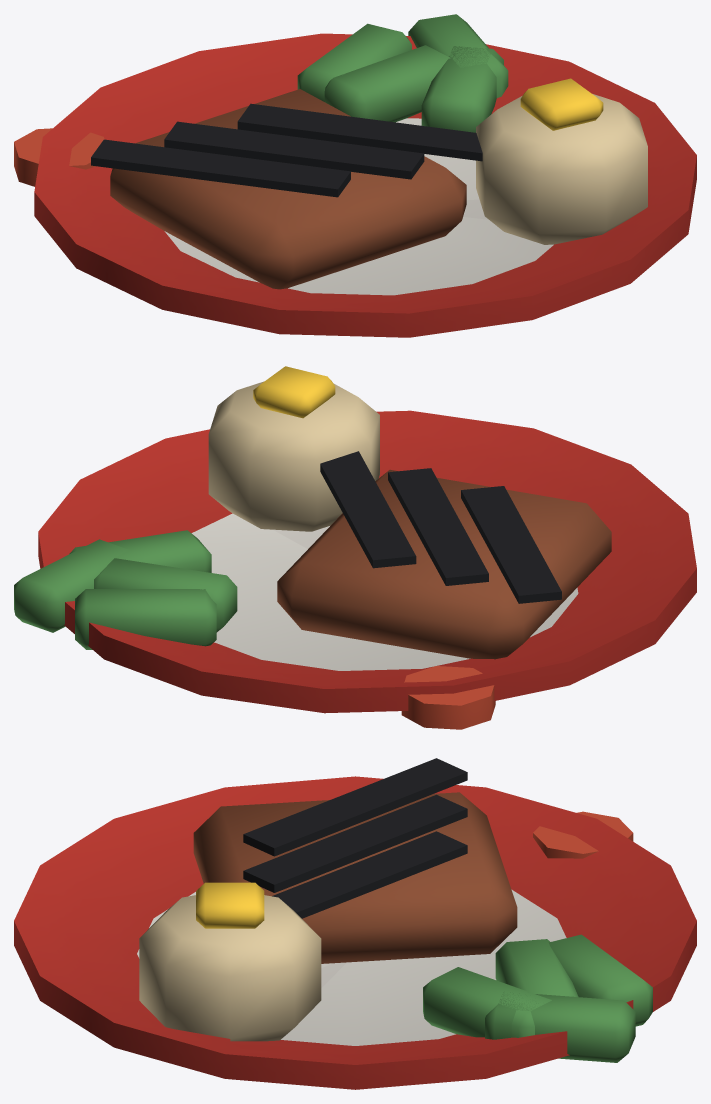
File: SM_Plate_Steak_01.glb
The picture shows the model from 3 angles, top to bottom: view 1: azimuth 30°, elevation 25°; view 2: azimuth 150°, elevation 25°; view 3: azimuth 270°, elevation 25°; orthographic projection. The views are drawn at different scales.
Visible parts, largest first — view 1: SM_Plate_Steak_01; view 2: SM_Plate_Steak_01; view 3: SM_Plate_Steak_01.
Part boxes in pixels (left/top/right/bottom): SM_Plate_Steak_01: left=14, top=14, right=696, bottom=337; SM_Plate_Steak_01: left=14, top=366, right=696, bottom=729; SM_Plate_Steak_01: left=14, top=758, right=696, bottom=1089.
Size of the model in its own units: 0.3 by 0.08 by 0.3.
1 material, 1 textured.
